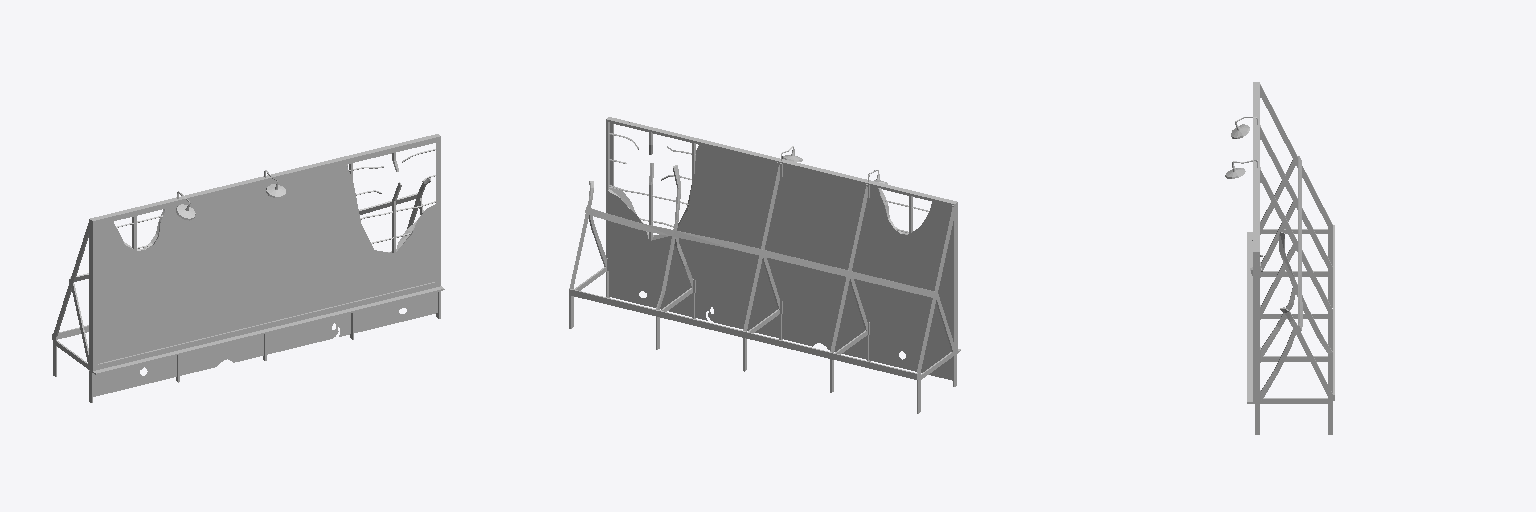
Rendered from Billboard.obj.
3 views of the same model, side by side, from view 1: azimuth 30°, elevation 25°; view 2: azimuth 150°, elevation 25°; view 3: azimuth 270°, elevation 25° (orthographic).
Parts seen in each view (by area): view 1: __PrenotatoPerDuplicare_14, __PrenotatoPerDuplicare_3; view 2: __PrenotatoPerDuplicare_3; view 3: __PrenotatoPerDuplicare_3.
Boxes of the visible parts, box(x1,y1,x2,y2) form: __PrenotatoPerDuplicare_14: box(98, 165, 435, 363); __PrenotatoPerDuplicare_3: box(52, 134, 444, 402); __PrenotatoPerDuplicare_3: box(569, 117, 960, 413); __PrenotatoPerDuplicare_3: box(1225, 82, 1334, 434).
Size of the model in its own units: 946 by 488 by 254.